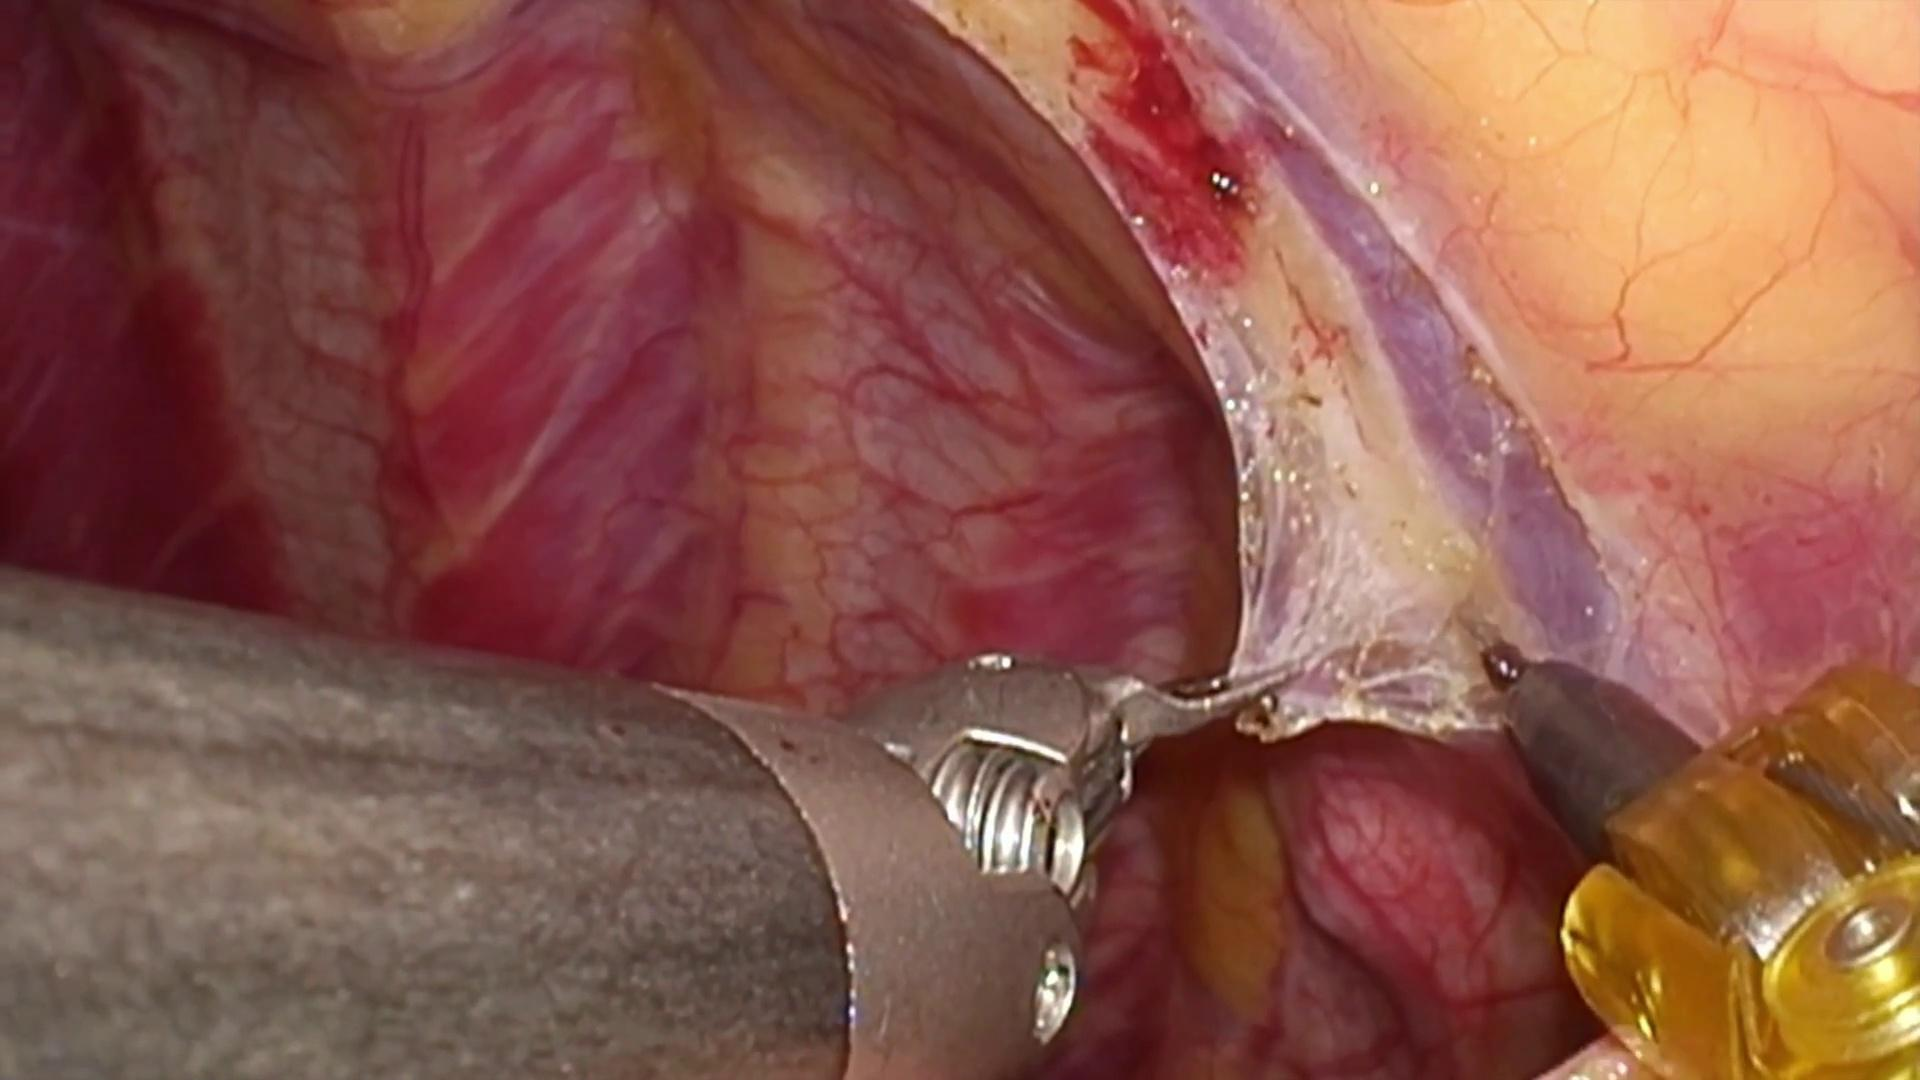Cautery_Spatula: (1456, 600, 1717, 847)
Debakey: (1065, 646, 1311, 790)
